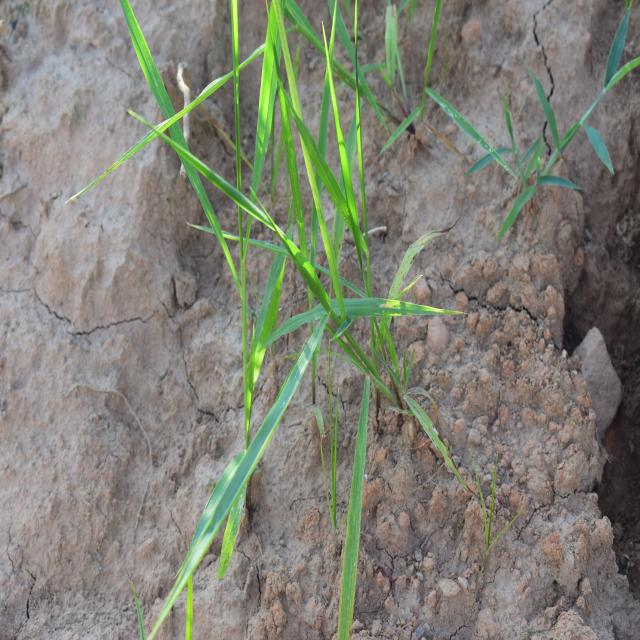green_foxtail: (206, 75, 420, 512)
